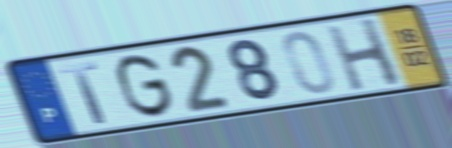0: (281, 29, 337, 96)
2: (171, 42, 236, 116)
8: (225, 38, 282, 103)
G: (114, 51, 177, 121)
H: (322, 15, 406, 93)
T: (56, 59, 110, 126)
